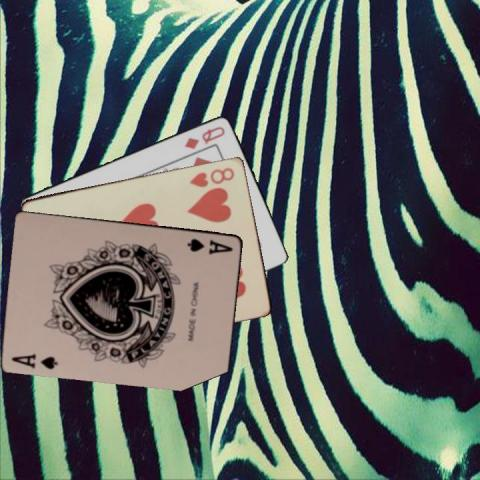8h: (187, 164, 236, 189)
As: (184, 235, 235, 256), (9, 350, 60, 371)
Qd: (182, 122, 227, 150)
